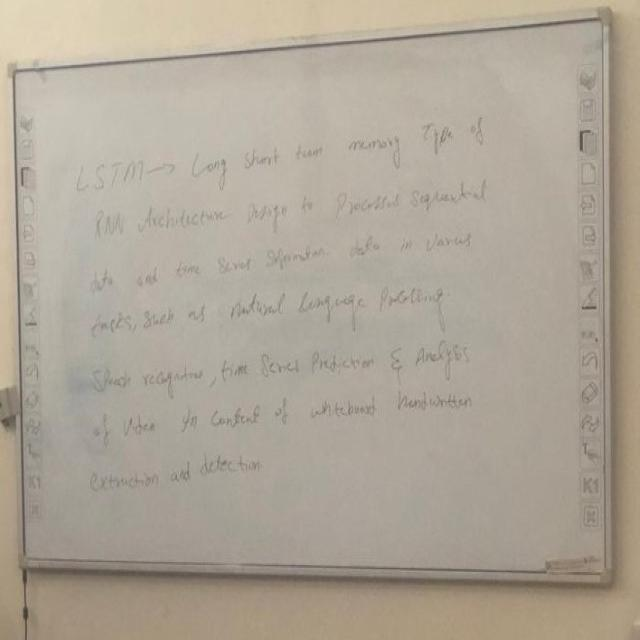White-board: (17, 13, 608, 575)
